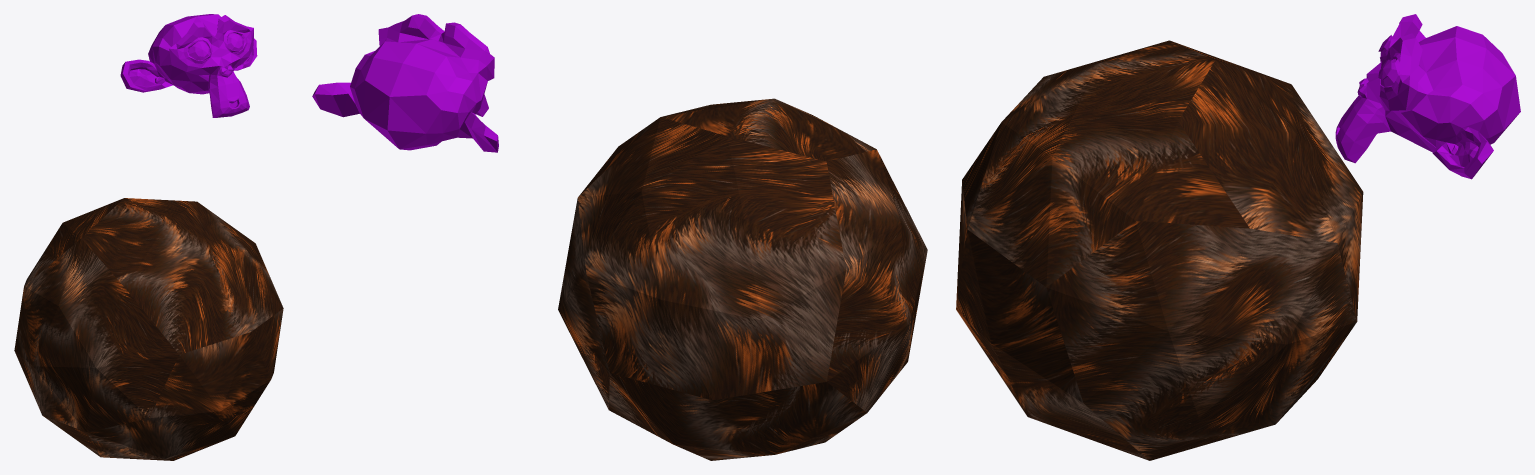
File: ball_06.dae
3 views of the same model, side by side, from view 1: azimuth 30°, elevation 25°; view 2: azimuth 150°, elevation 25°; view 3: azimuth 270°, elevation 25° (orthographic). The views are drawn at different scales.
Parts seen in each view (by area): view 1: Icosphere, Suzanne; view 2: Icosphere, Suzanne; view 3: Icosphere, Suzanne.
Part boxes in pixels (x1=…): Icosphere: x1=14, y1=198, x2=283, y2=460; Suzanne: x1=120, y1=14, x2=257, y2=117; Icosphere: x1=558, y1=98, x2=927, y2=460; Suzanne: x1=312, y1=14, x2=498, y2=152; Icosphere: x1=956, y1=40, x2=1363, y2=460; Suzanne: x1=1335, y1=14, x2=1520, y2=179.
Bounding box in the file's own units: 2.77 × 2.66 × 2.69.
